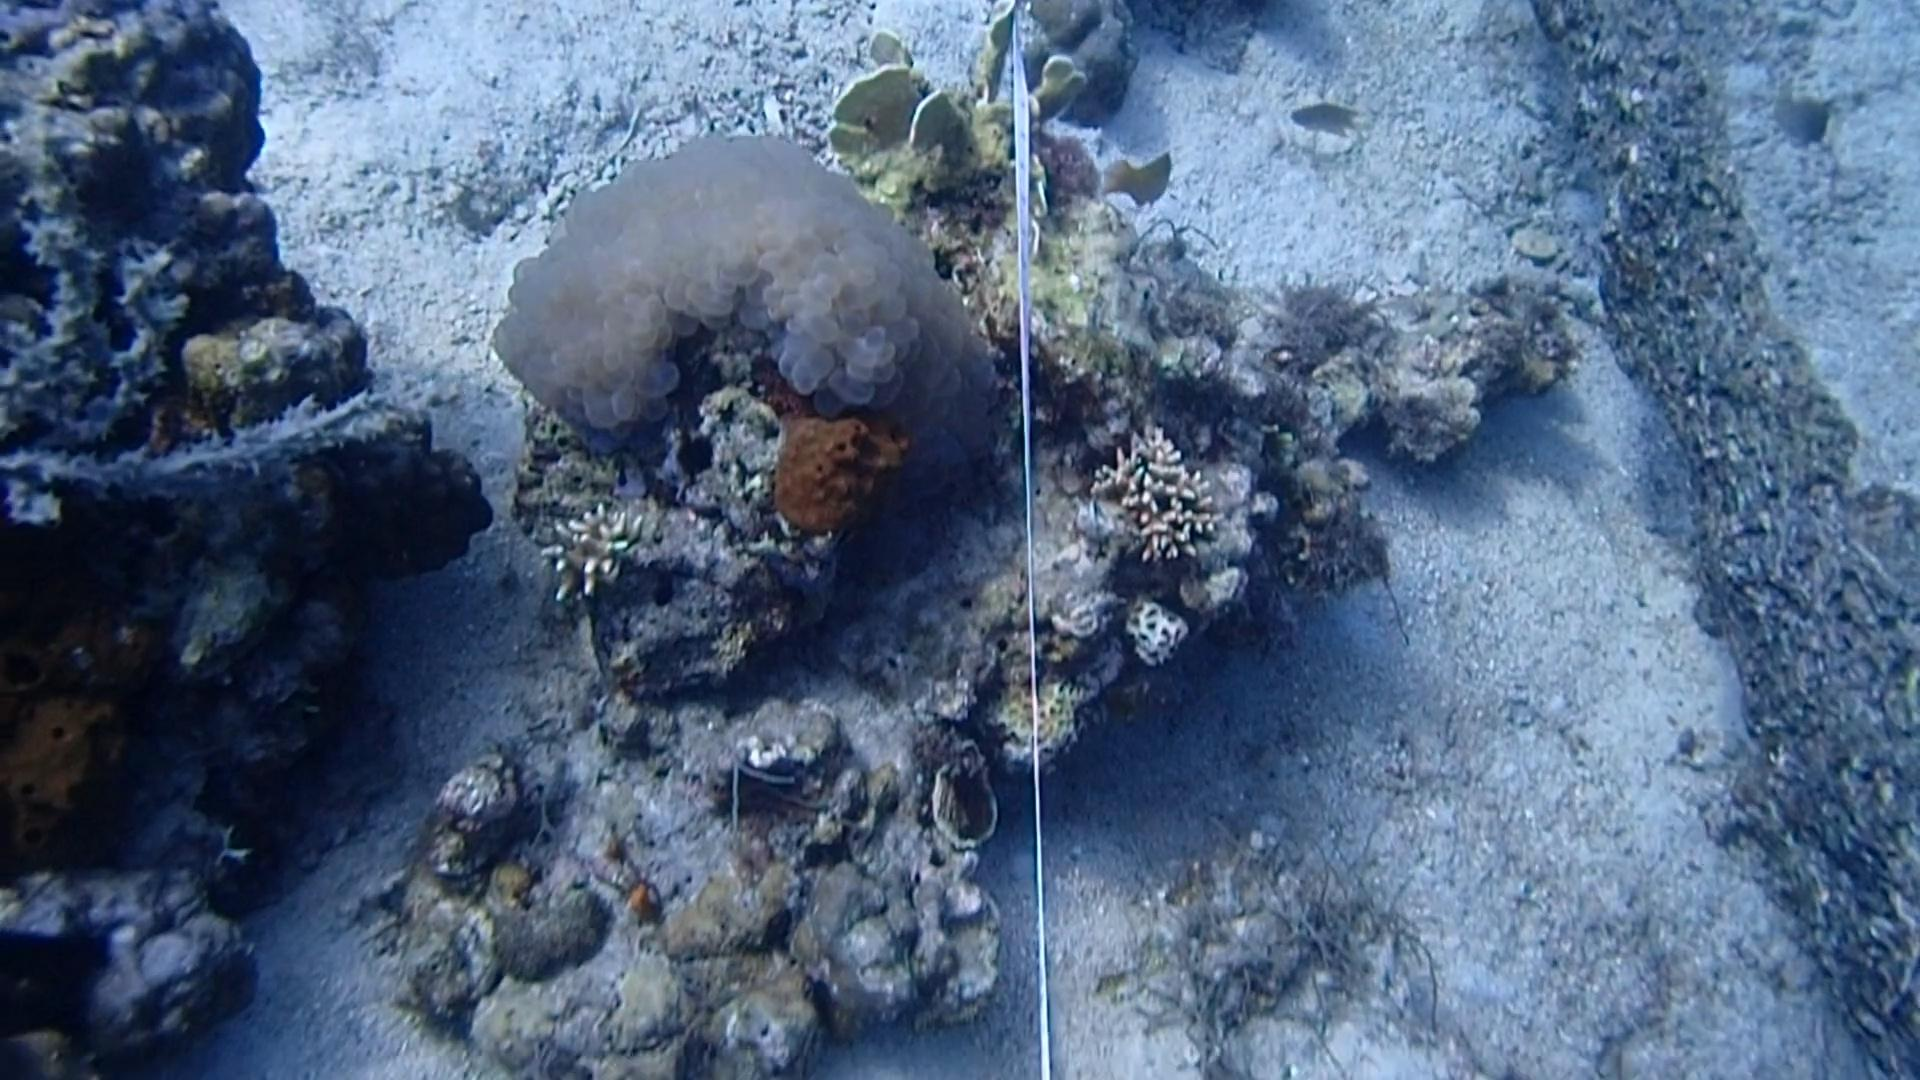Light Fish: (1270, 79, 1364, 156), (1767, 83, 1847, 152)
Yellow-Blue Fish: (1098, 142, 1185, 214)
